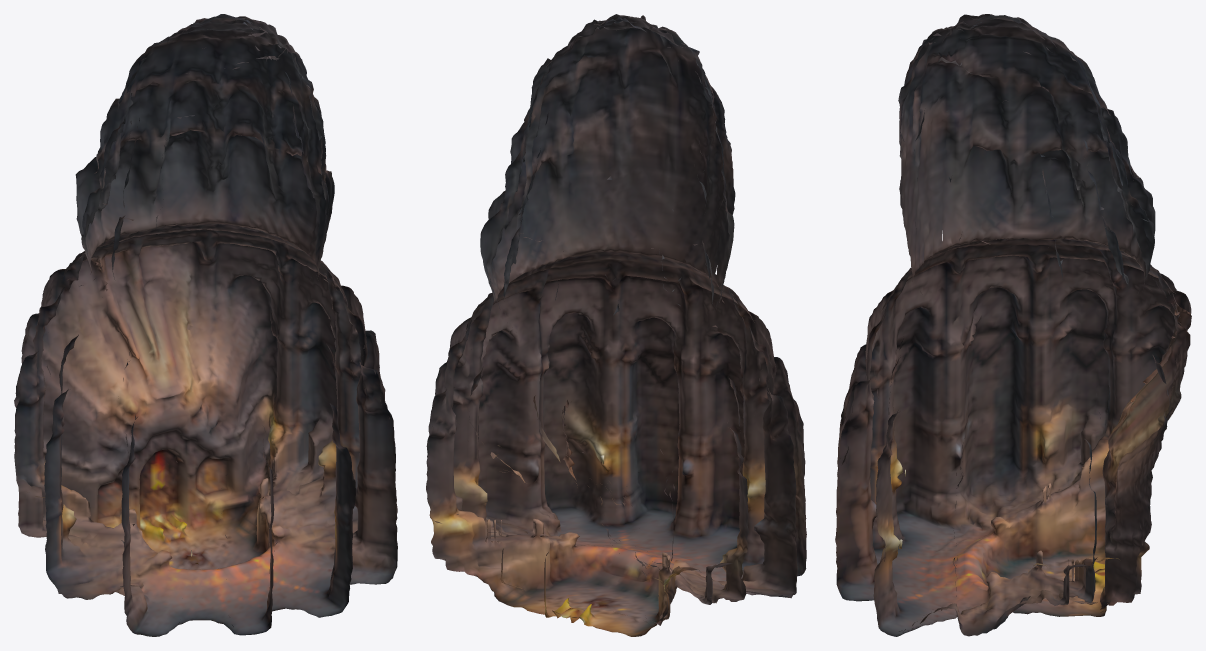
File: throne.glb
3 renders of one model, left to right at view 1: azimuth 30°, elevation 25°; view 2: azimuth 150°, elevation 25°; view 3: azimuth 270°, elevation 25°, orthographic.
Visible parts, largest first — view 1: world; view 2: world; view 3: world.
Part boxes in pixels (<box>): world: <box>14,14,397,636</box>; world: <box>426,14,806,636</box>; world: <box>835,14,1191,636</box>.
Bounding box in the file's own units: 9.15 × 14.86 × 8.44.
